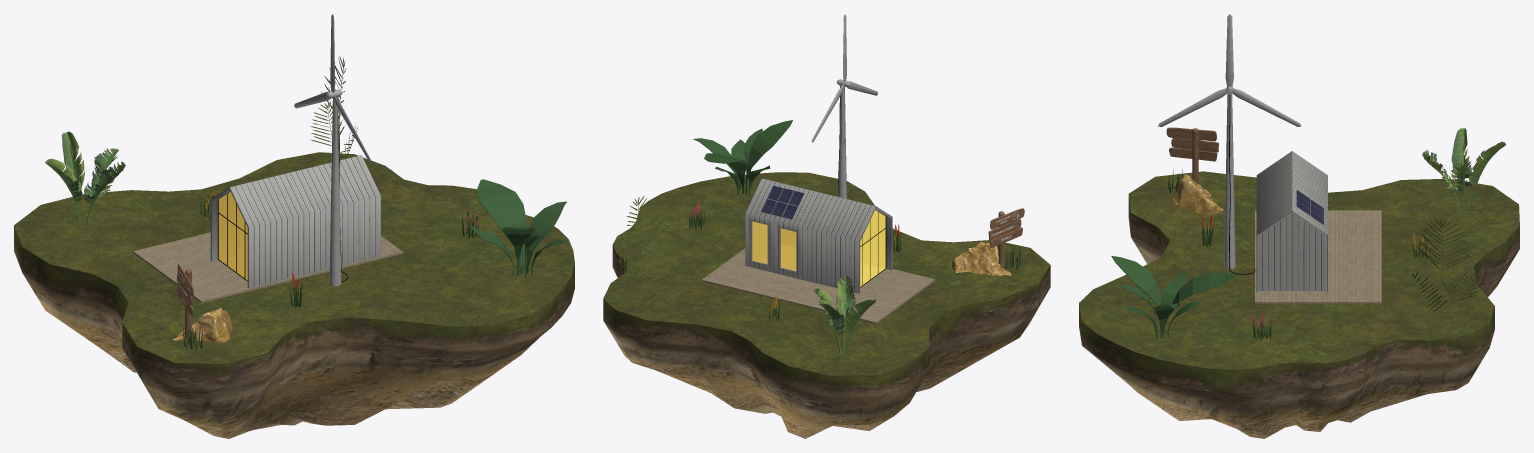
Rendered from ren-stg1.glb.
3 views of the same model, side by side, from view 1: azimuth 30°, elevation 25°; view 2: azimuth 150°, elevation 25°; view 3: azimuth 270°, elevation 25° (orthographic). The views are drawn at different scales.
Parts seen in each view (by area): view 1: ISOLOTTI_GRP_isola_02_terra_geo_ISOLOTTI_002_GRP, casetta_geo_CASA_GRP, Plants_B_1, PLANTS_GRP_PLANT03_murumuru_J_GEO.004, Rock_Sandstone-Photoscan_D_spring-summer-autumn, PLANTS_GRP_PLANT01_euterpePrecatoria_J_geo.002; view 2: ISOLOTTI_GRP_isola_02_terra_geo_ISOLOTTI_002_GRP, casetta_geo_CASA_GRP, Plants_B_1, PLANTS_GRP_PLANT03_murumuru_J_GEO.004, PLANTS_GRP_PLANT01_euterpePrecatoria_J_geo.002, Rock_Sandstone-Photoscan_D_spring-summer-autumn; view 3: ISOLOTTI_GRP_isola_02_terra_geo_ISOLOTTI_002_GRP, casetta_geo_CASA_GRP, Plants_B_1, PLANTS_GRP_PLANT03_murumuru_J_GEO.004, PLANTS_GRP_PLANT01_euterpePrecatoria_J_geo.002, Rock_Sandstone-Photoscan_D_spring-summer-autumn, top_board.003, middle_board.003.
Part boxes in pixels (bbox=[...]): ISOLOTTI_GRP_isola_02_terra_geo_ISOLOTTI_002_GRP: bbox=[14, 152, 574, 438]; casetta_geo_CASA_GRP: bbox=[133, 14, 402, 302]; Plants_B_1: bbox=[468, 179, 566, 277]; PLANTS_GRP_PLANT03_murumuru_J_GEO.004: bbox=[45, 131, 125, 225]; Rock_Sandstone-Photoscan_D_spring-summer-autumn: bbox=[173, 308, 232, 342]; PLANTS_GRP_PLANT01_euterpePrecatoria_J_geo.002: bbox=[310, 56, 357, 159]; ISOLOTTI_GRP_isola_02_terra_geo_ISOLOTTI_002_GRP: bbox=[603, 172, 1050, 438]; casetta_geo_CASA_GRP: bbox=[702, 14, 935, 323]; Plants_B_1: bbox=[693, 120, 792, 195]; PLANTS_GRP_PLANT03_murumuru_J_GEO.004: bbox=[813, 276, 876, 356]; PLANTS_GRP_PLANT01_euterpePrecatoria_J_geo.002: bbox=[618, 196, 677, 295]; Rock_Sandstone-Photoscan_D_spring-summer-autumn: bbox=[952, 242, 1011, 275]; ISOLOTTI_GRP_isola_02_terra_geo_ISOLOTTI_002_GRP: bbox=[1079, 171, 1519, 438]; casetta_geo_CASA_GRP: bbox=[1158, 14, 1381, 303]; Plants_B_1: bbox=[1111, 256, 1236, 339]; PLANTS_GRP_PLANT03_murumuru_J_GEO.004: bbox=[1422, 128, 1506, 212]; PLANTS_GRP_PLANT01_euterpePrecatoria_J_geo.002: bbox=[1407, 218, 1484, 321]; Rock_Sandstone-Photoscan_D_spring-summer-autumn: bbox=[1171, 174, 1223, 214]; top_board.003: bbox=[1166, 127, 1216, 141]; middle_board.003: bbox=[1171, 138, 1218, 152].
Size of the model in its own units: 4.86 by 4.53 by 4.57.
Materials: 15 (8 with a texture image).
